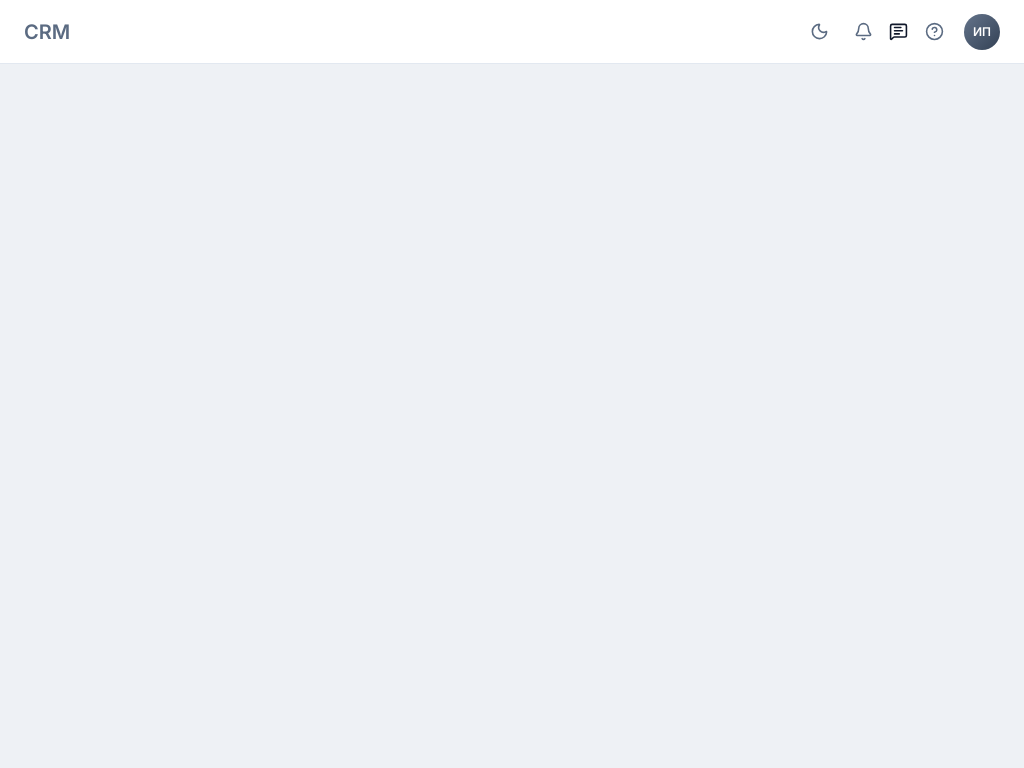
Test: Topbar › закрывает поповер по клику на подложку
Click the button titled "Уведомления": (863, 32) [845,14,881,50]
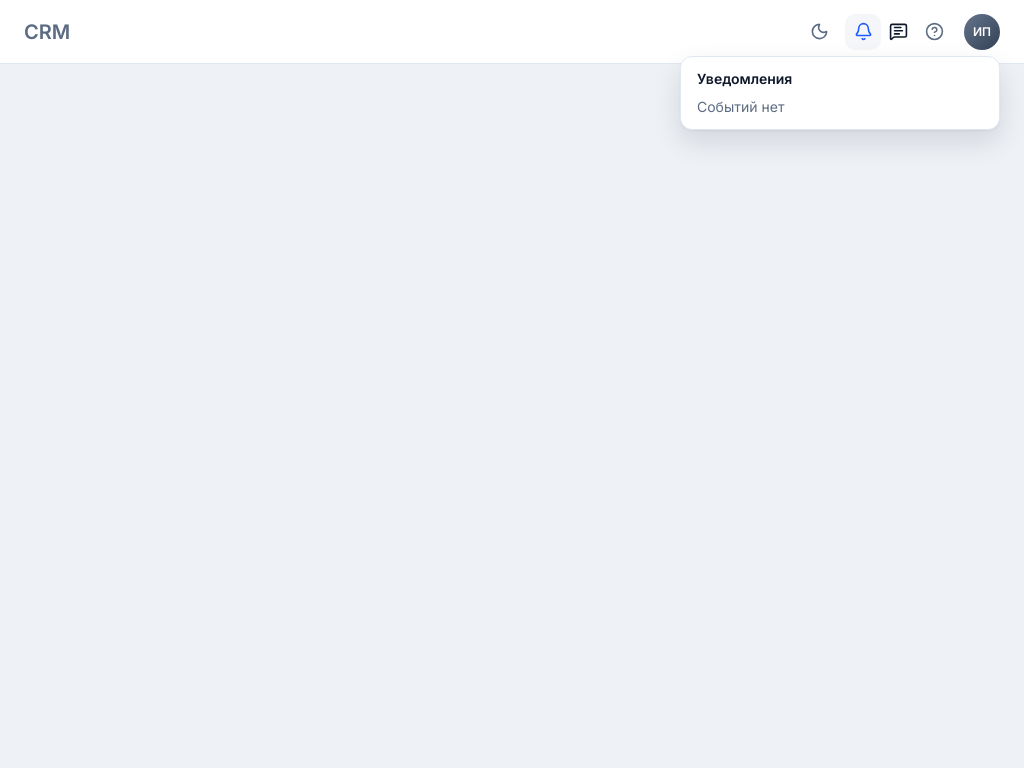
Result: the text "Уведомления" is shown at [697,70,792,87]
Click the element with class "inset-0": (512, 384) [0,0,1023,767]
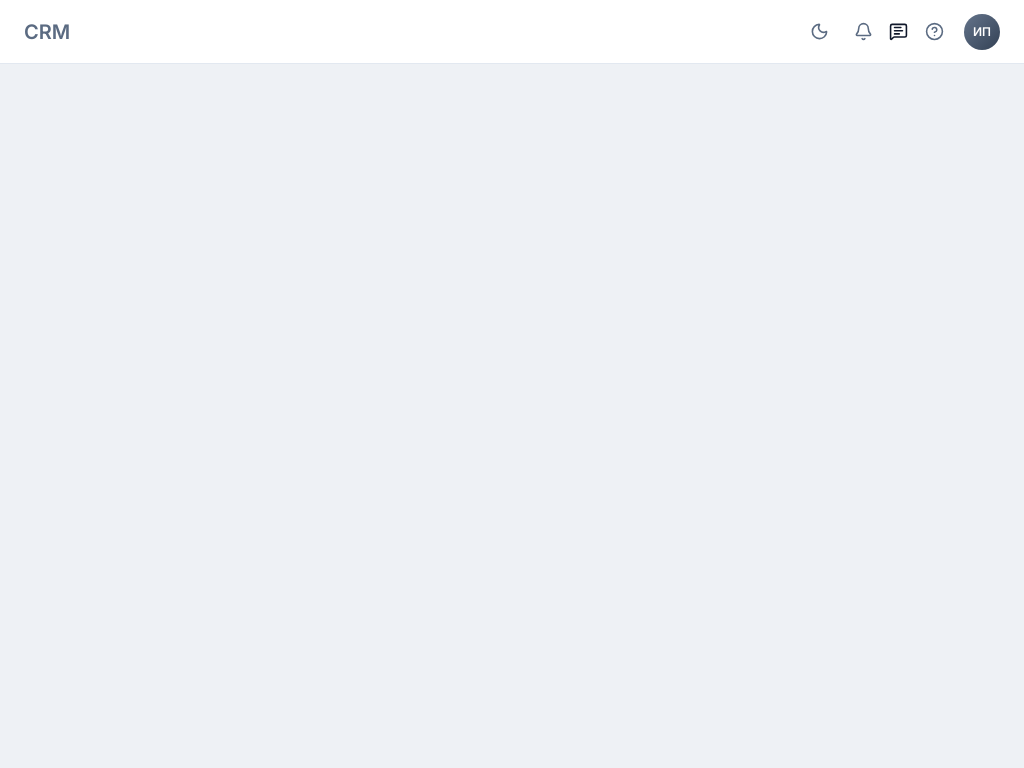
Result: the text "Уведомления" is gone
